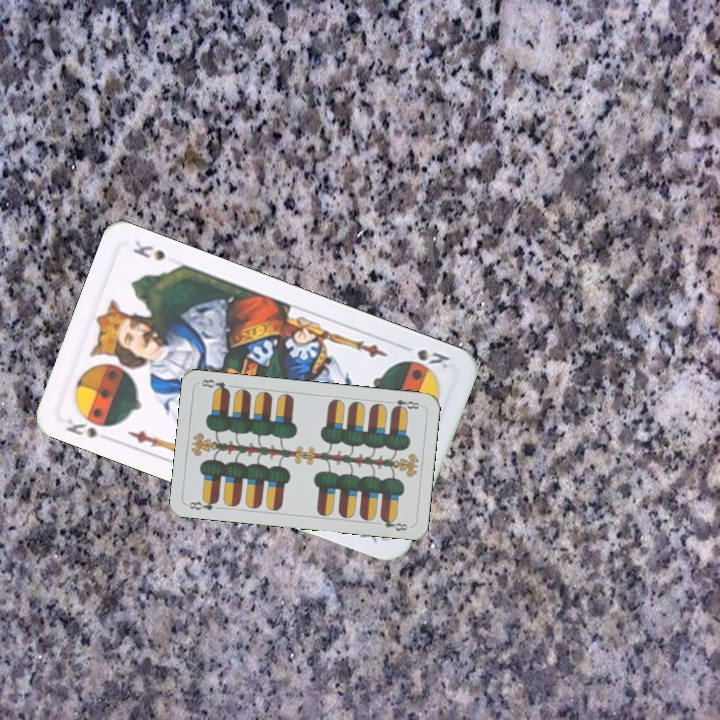E8: (384, 395, 424, 413), (185, 495, 221, 513)
SK: (61, 411, 116, 444), (397, 341, 452, 372)
